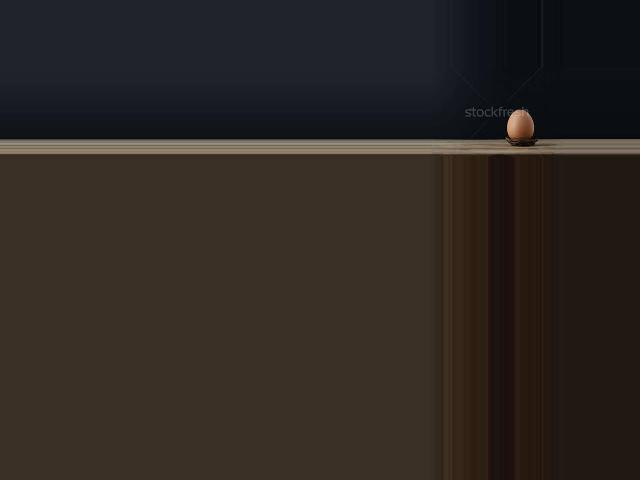egg: (507, 110, 534, 139)
